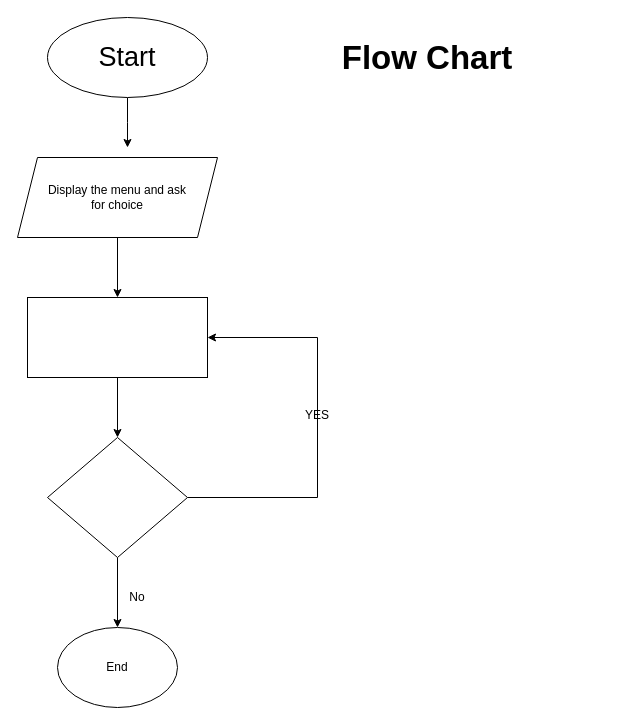
The diagram is 635 pixels wide and 725 high, and some of its shapes have lost their labels. Each missing label, with the box of its shape:
Continue?: (46, 436, 188, 558)
Perform the Selected Actions: (26, 296, 208, 378)
